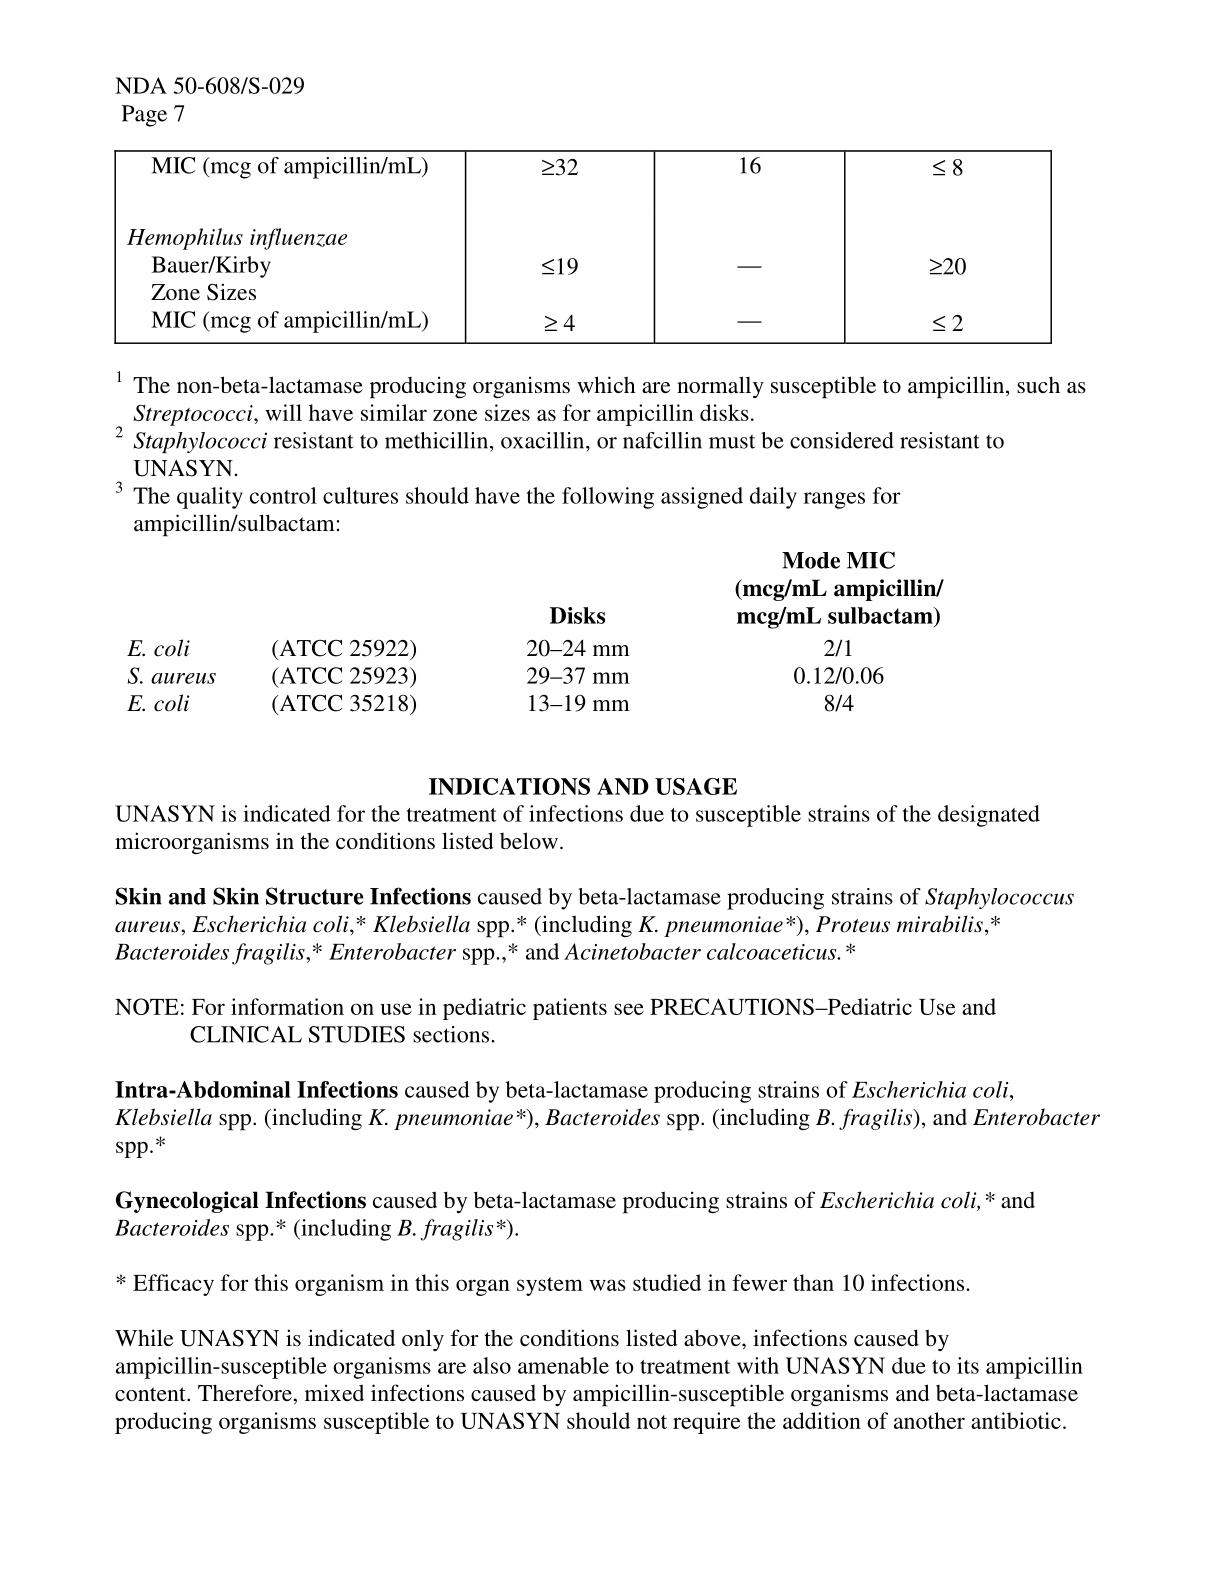nolines: (123, 546, 948, 716)
partial_lined: (113, 149, 1053, 345)
